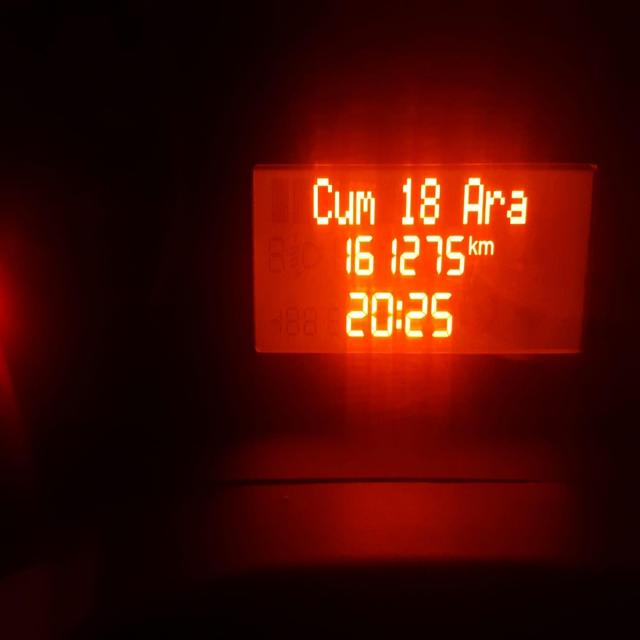odometer: (246, 159, 598, 361)
